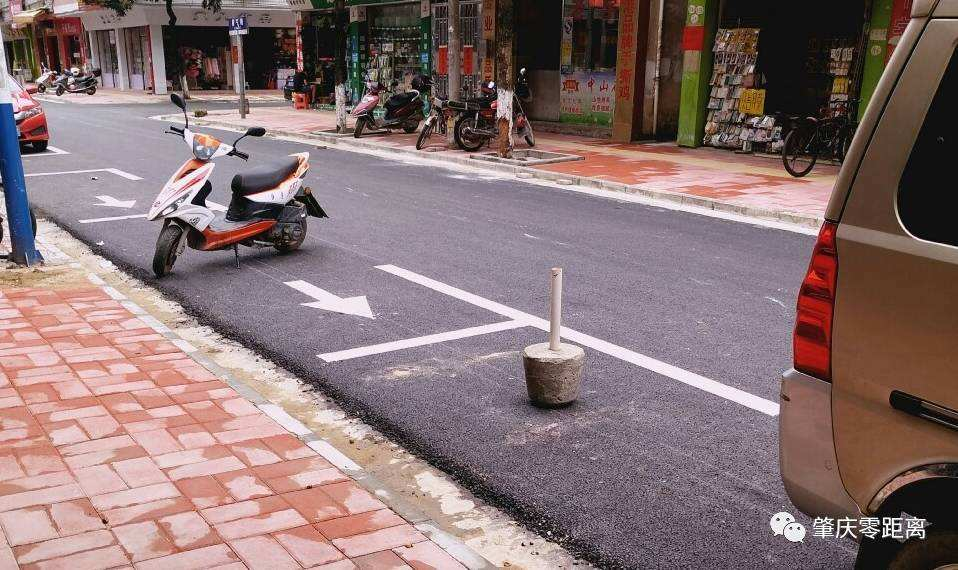slot_nocar: (9, 159, 232, 227)
